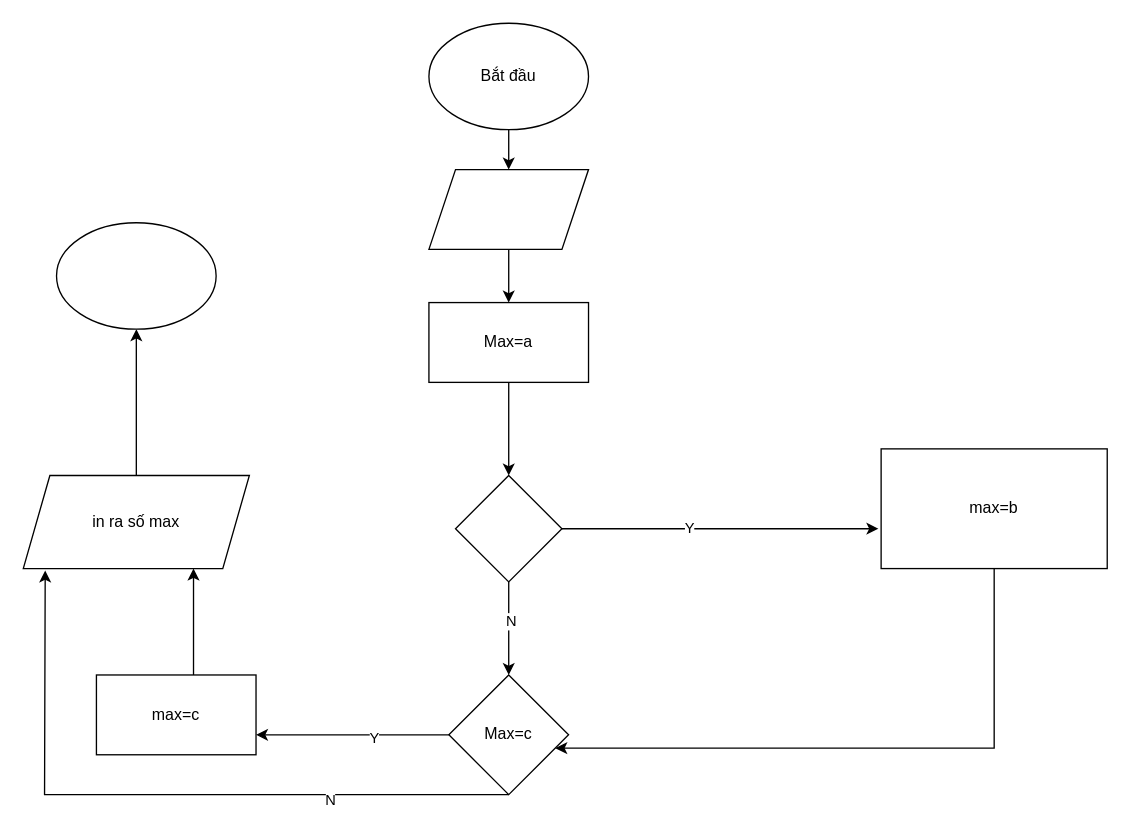
The diagram is 1131 pixels wide and 831 high, and some of its shapes have lost their labels. The shapes that lost their labels are listed below. From the top down, each one's centre as x and y in pixels, then its label:
the point at 508,208: Nhập vào ba số nguyên a,b,c
the point at 135,275: Kết thúc
the point at 508,528: Max= b
